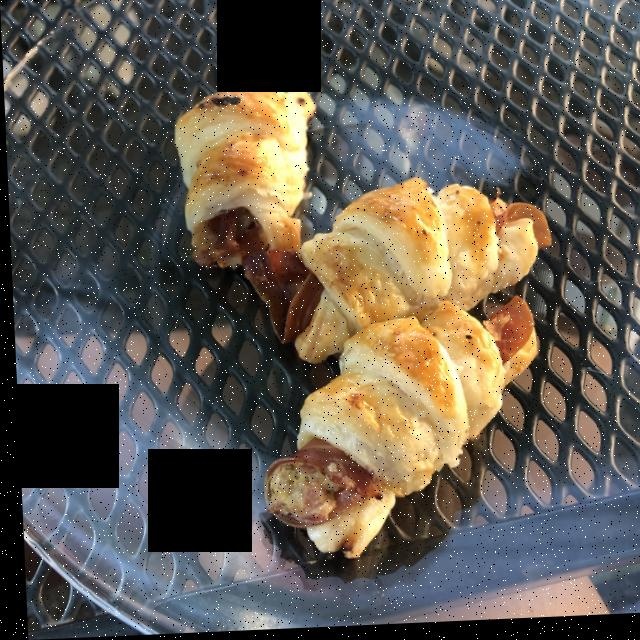ham-croissant: (179, 87, 538, 554)
